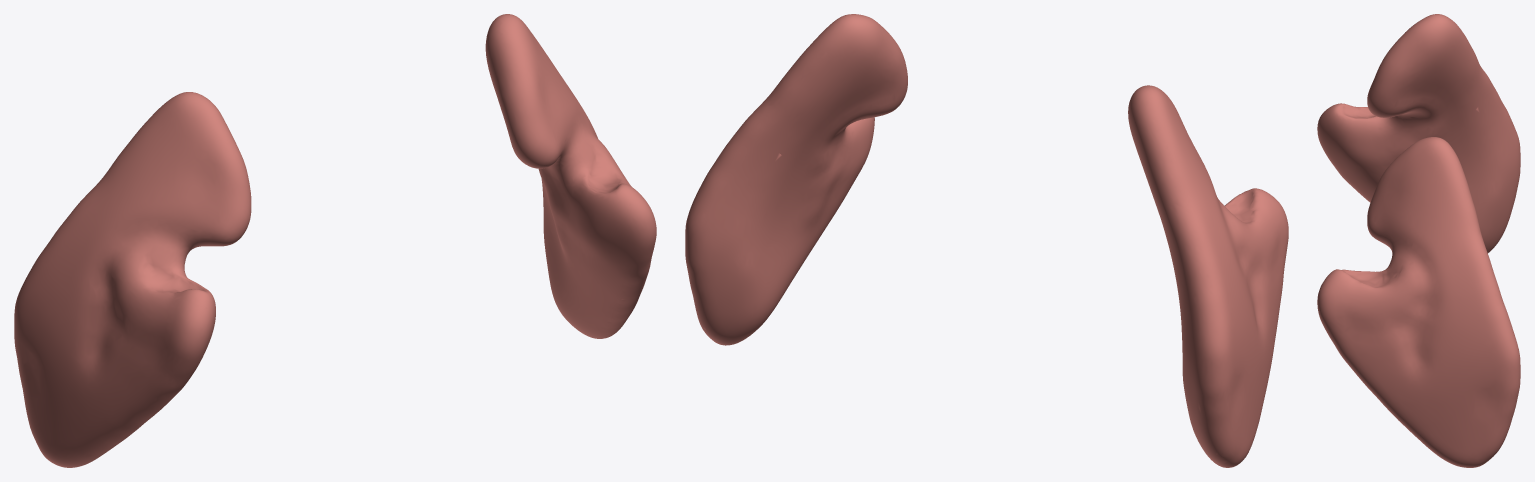
The model's file is medial_pterygoid.glb.
3 renders of one model, left to right at view 1: azimuth 30°, elevation 25°; view 2: azimuth 150°, elevation 25°; view 3: azimuth 270°, elevation 25°, orthographic. The views are drawn at different scales.
Parts seen in each view (by area): view 1: medial_pterygoid_R, medial_pterygoid_L; view 2: medial_pterygoid_L, medial_pterygoid_R; view 3: medial_pterygoid_L, medial_pterygoid_R.
Part boxes in pixels (<box>): medial_pterygoid_R: <box>14,92,251,467</box>; medial_pterygoid_L: <box>485,14,656,338</box>; medial_pterygoid_L: <box>685,14,907,345</box>; medial_pterygoid_R: <box>1128,85,1288,467</box>; medial_pterygoid_L: <box>1317,137,1520,467</box>; medial_pterygoid_R: <box>1317,14,1520,253</box>.
Bounding box in the file's own units: 0.0701 × 0.0417 × 0.0268.
